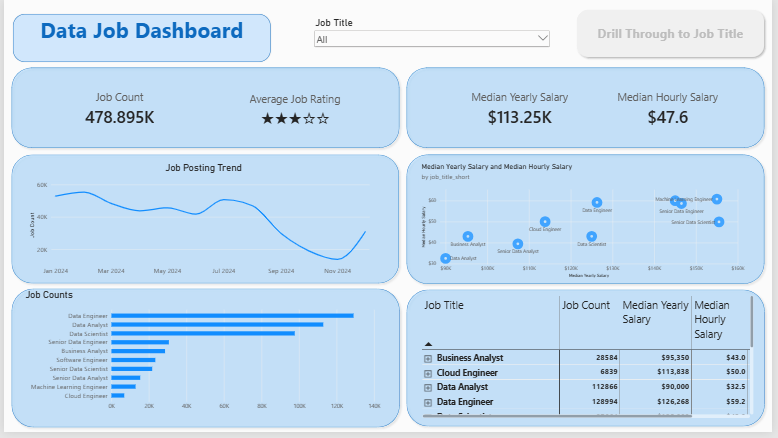

The page's visual inventory and layout, read from the dashboard file:
{"tool":"powerbi","page":{"name":"Data Job Dashboard","canvas":[1920,1080],"ordinal":0},"visuals":[{"type":"shape","box":[996.7,714.7,913.3,360],"z":0,"group":"g7"},{"type":"group","id":"g1","title":"Group 1","box":[997.5,160,912.5,218.6],"z":1000,"group":"g4"},{"type":"shape","box":[10,712.8,988.3,365],"z":1000,"group":"g8"},{"type":"actionButton","box":[1423.3,13.8,486.7,136.7],"z":2000},{"type":"group","id":"g2","title":"Group 2","box":[10.8,160,987.5,218.6],"z":2000,"group":"g4"},{"type":"shape","box":[997.5,378.6,912.5,341.2],"z":2000,"group":"g5"},{"type":"shape","box":[10,377.7,986.7,340],"z":3000,"group":"g3"},{"type":"textbox","box":[21.4,34.3,644.3,120],"z":4000},{"type":"slicer","fields":{"Values":["job_postings_flat.job_title_short"]},"box":[770,40,600,77.5],"z":4000},{"type":"shape","box":[997.5,160,912.5,218.6],"z":4000,"group":"g1"},{"type":"group","id":"g3","title":"Group 3","box":[10,377.7,986.7,340],"z":4000,"group":"g6"},{"type":"group","id":"g4","title":"Group 7","box":[10,160,1900,917.8],"z":5000},{"type":"shape","box":[10.8,160,987.5,218.6],"z":5000,"group":"g2"},{"type":"group","id":"g5","title":"Group 4","box":[997.5,378.6,912.5,341.2],"z":5000,"group":"g6"},{"type":"group","id":"g6","title":"Group 9","box":[10,377.7,1900,342.1],"z":5001,"group":"g4"},{"type":"cardVisual","fields":{"Data":["CountNonNull(job_postings_flat.job_title_short)"]},"box":[43.9,181.6,493.7,177.8],"z":6000,"group":"g2"},{"type":"cardVisual","fields":{"Data":["job_postings_flat.Average of salary_year_avg star rating"]},"box":[490.6,193.6,475.9,165.8],"z":7000,"group":"g2"},{"type":"group","id":"g7","title":"Group 6","box":[10,709.5,1900,368.3],"z":7000,"group":"g4"},{"type":"cardVisual","fields":{"Data":["Median(job_postings_flat.salary_hour_avg)"]},"box":[1426.6,181.6,463.6,177.8],"z":11000,"group":"g1"},{"type":"cardVisual","fields":{"Data":["Median(job_postings_flat.salary_year_avg)"]},"box":[1039.4,181.6,498.2,177.8],"z":12000,"group":"g1"},{"type":"barChart","title":"Job Counts","fields":{"Category":["job_postings_flat.job_title_short"],"Y":["CountNonNull(job_postings_flat.job_title_short)"]},"box":[37.5,709.5,920,336.4],"z":13000,"group":"g8"},{"type":"pivotTable","fields":{"Rows":["job_postings_flat.job_title_short","job_postings_flat.job_posted_date.Variation.Date Hierarchy.Quarter"],"Values":["CountNonNull(job_postings_flat.job_title_short)","Median(job_postings_flat.salary_year_avg)","Median(job_postings_flat.salary_hour_avg)","SparklineData(CountNonNull(job_postings_flat.job_title_short)_[job_postings_flat.job_posted_date.Variation.Date Hierarch"]},"box":[1030,724.7,860,336.4],"z":14000,"group":"g7"},{"type":"lineChart","title":"Job Posting Trend","fields":{"Category":["job_postings_flat.job_posted_date.Variation.Date Hierarchy.Year","job_postings_flat.job_posted_date.Variation.Date Hierarchy.Quarter","job_postings_flat.job_posted_date.Variation.Date Hierarchy.Month","job_postings_flat.job_posted_date.Variation.Date Hierarchy.Day"],"Y":["CountNonNull(job_postings_flat.job_title_short)"]},"box":[44.7,393,908.1,317.1],"z":15000,"group":"g3"},{"type":"scatterChart","fields":{"X":["Median(job_postings_flat.salary_year_avg)"],"Y":["job_postings_flat.salary_hour_avg"],"Series":["job_postings_flat.job_title_short"]},"box":[1027.5,393,840,317.1],"z":16000,"group":"g5"},{"type":"group","id":"g8","title":"Group 5","box":[10,709.5,988.3,368.3],"z":16005,"group":"g7"}]}

Visuals, with their boxes in screenshot pixels (x1, y1, x2, y2), scaled from the page's 1920x1080 canvas onto the 778x438 screenshot:
shape: [left=404, top=290, right=774, bottom=436]
"Group 1" group: [left=404, top=65, right=774, bottom=154]
shape: [left=4, top=289, right=405, bottom=437]
actionButton: [left=577, top=6, right=774, bottom=61]
"Group 2" group: [left=4, top=65, right=405, bottom=154]
shape: [left=404, top=154, right=774, bottom=292]
shape: [left=4, top=153, right=404, bottom=291]
textbox: [left=9, top=14, right=270, bottom=63]
slicer - job_postings_flat.job_title_short: [left=312, top=16, right=555, bottom=48]
shape: [left=404, top=65, right=774, bottom=154]
"Group 3" group: [left=4, top=153, right=404, bottom=291]
"Group 7" group: [left=4, top=65, right=774, bottom=437]
shape: [left=4, top=65, right=405, bottom=154]
"Group 4" group: [left=404, top=154, right=774, bottom=292]
"Group 9" group: [left=4, top=153, right=774, bottom=292]
cardVisual - CountNonNull(job_postings_flat.job_title_short): [left=18, top=74, right=218, bottom=146]
cardVisual - job_postings_flat.Average of salary_year_avg star rating: [left=199, top=79, right=392, bottom=146]
"Group 6" group: [left=4, top=288, right=774, bottom=437]
cardVisual - Median(job_postings_flat.salary_hour_avg): [left=578, top=74, right=766, bottom=146]
cardVisual - Median(job_postings_flat.salary_year_avg): [left=421, top=74, right=623, bottom=146]
"Job Counts" barChart: [left=15, top=288, right=388, bottom=424]
pivotTable - job_postings_flat.job_title_short x job_postings_flat.job_posted_date.Variation.Date Hierarchy.Quarter: [left=417, top=294, right=766, bottom=430]
"Job Posting Trend" lineChart: [left=18, top=159, right=386, bottom=288]
scatterChart - Median(job_postings_flat.salary_year_avg) x job_postings_flat.salary_hour_avg: [left=416, top=159, right=757, bottom=288]
"Group 5" group: [left=4, top=288, right=405, bottom=437]
